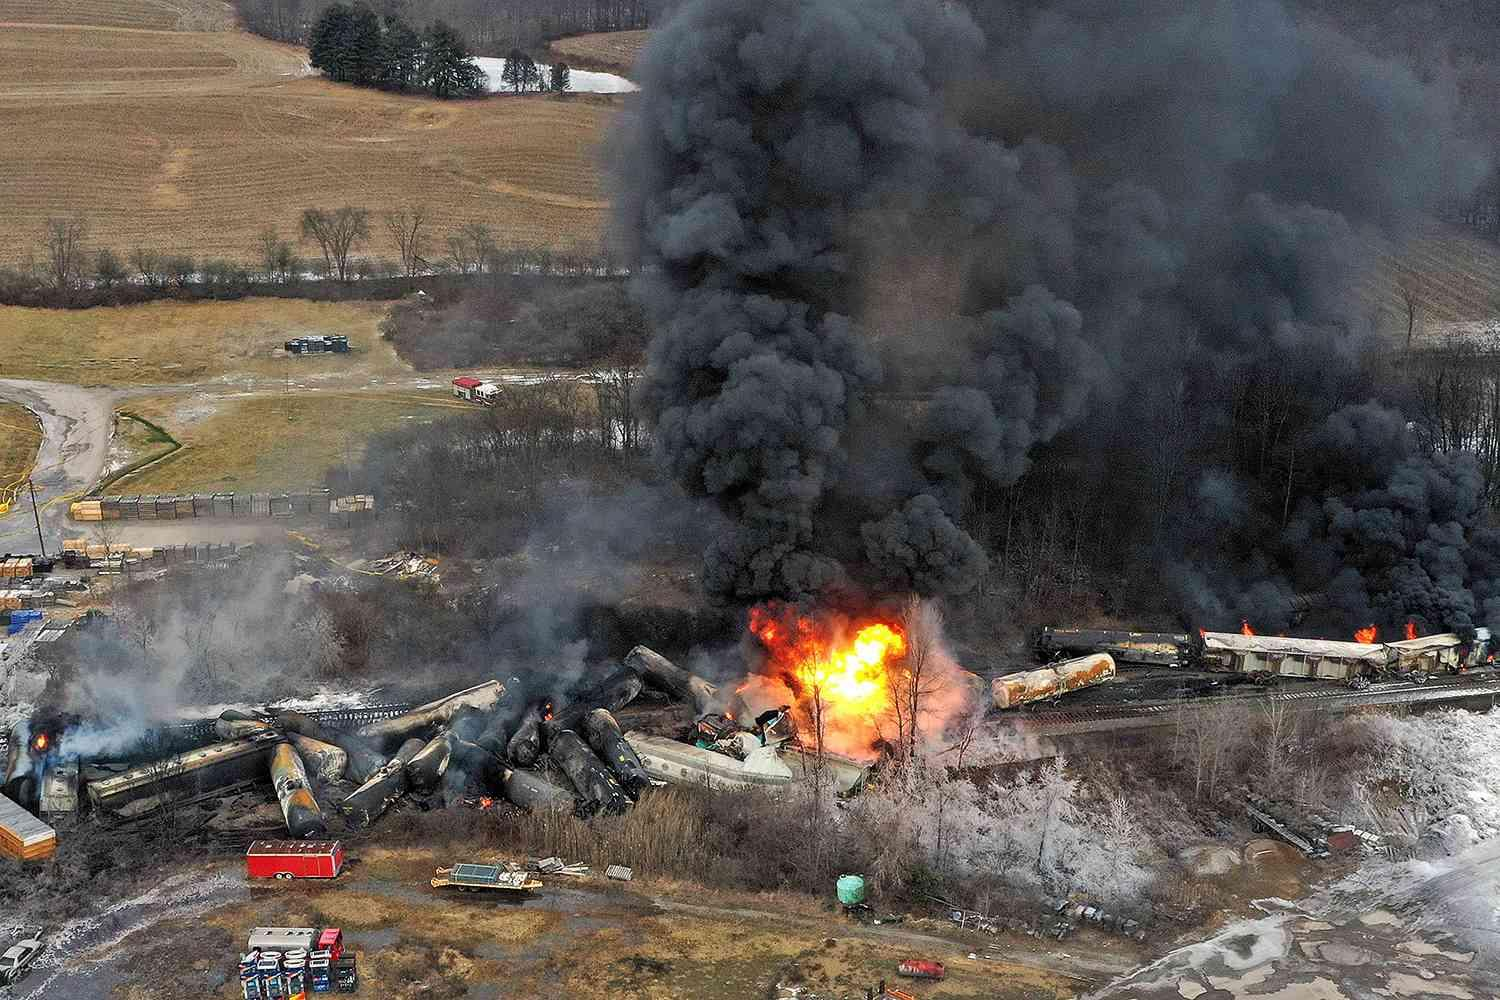fire: (748, 600, 925, 750)
